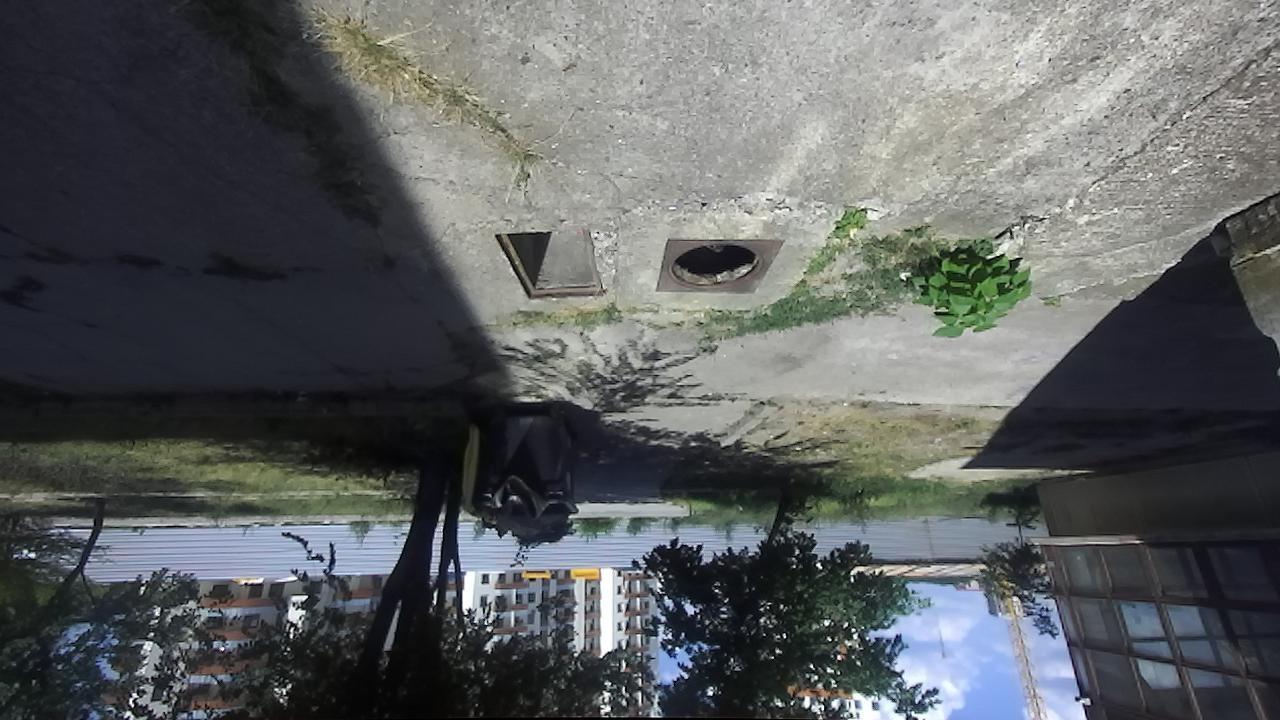drain: (490, 226, 609, 301), (667, 244, 772, 296)
